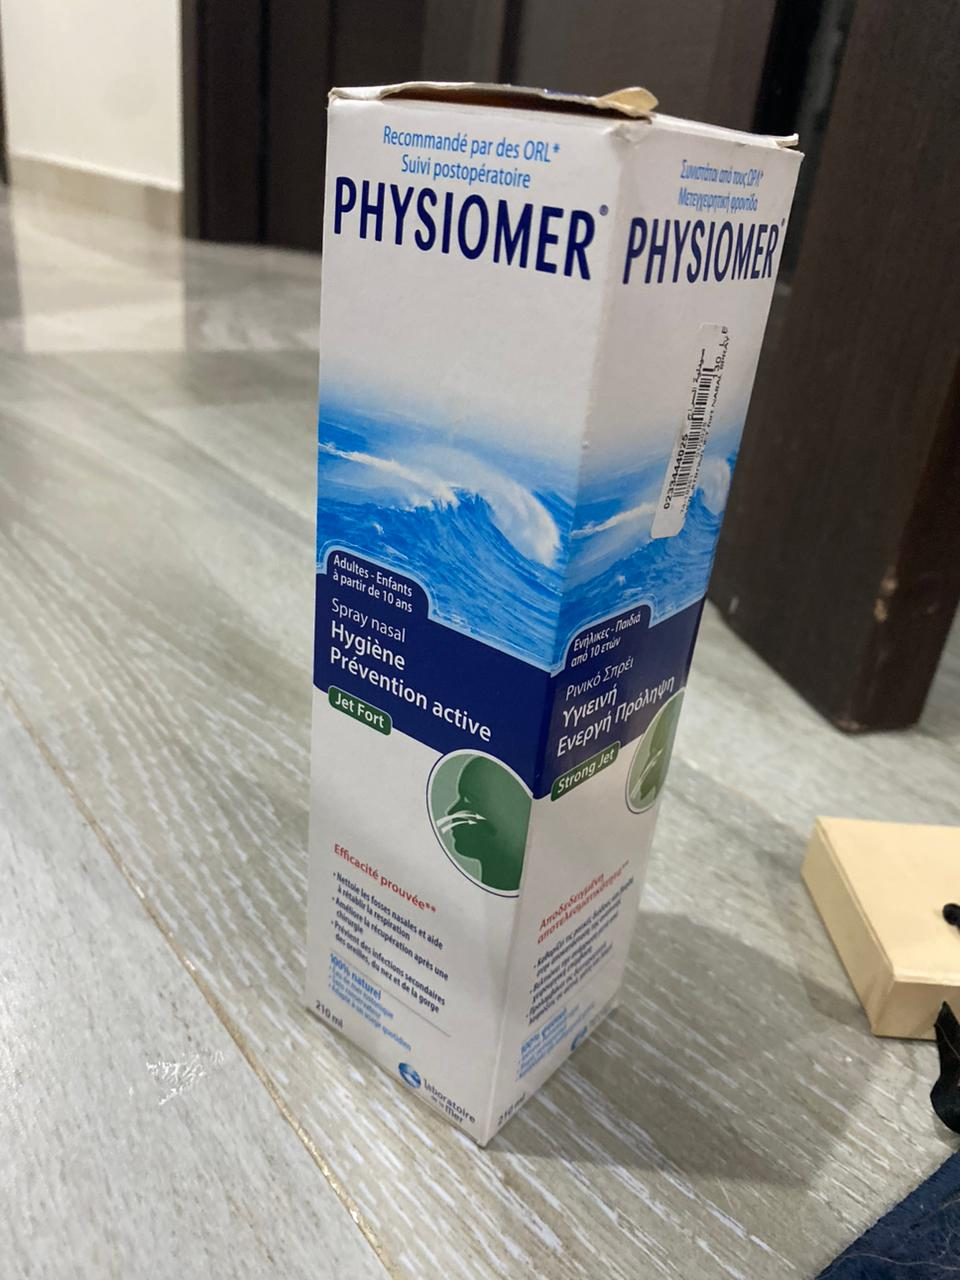Physiomer: (310, 74, 805, 1149)
Yellow Box: (799, 808, 960, 1048)
